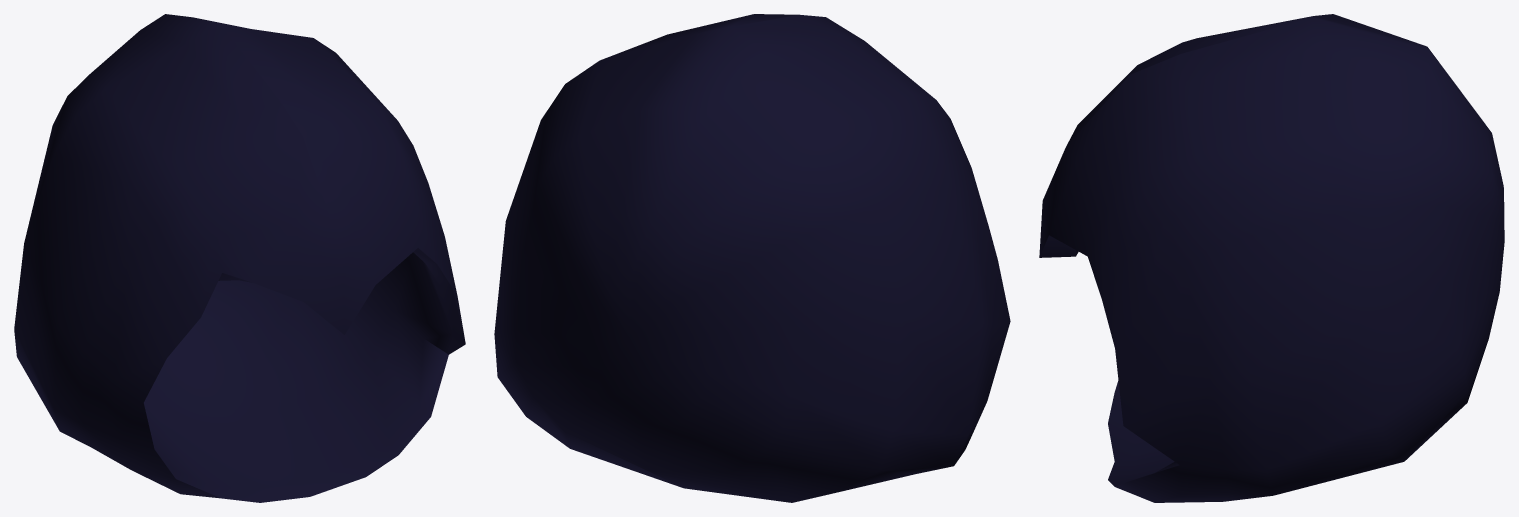
Rendered from character_hood.fbx.
3 renders of one model, left to right at view 1: azimuth 30°, elevation 25°; view 2: azimuth 150°, elevation 25°; view 3: azimuth 270°, elevation 25°, orthographic. The views are drawn at different scales.
Visible parts, largest first — view 1: character_hood; view 2: character_hood; view 3: character_hood.
Part boxes in pixels (bbox=[...]): character_hood: bbox=[14, 14, 465, 502]; character_hood: bbox=[494, 14, 1010, 502]; character_hood: bbox=[1039, 14, 1504, 502].
Size of the model in its own units: 112 by 115 by 108.
